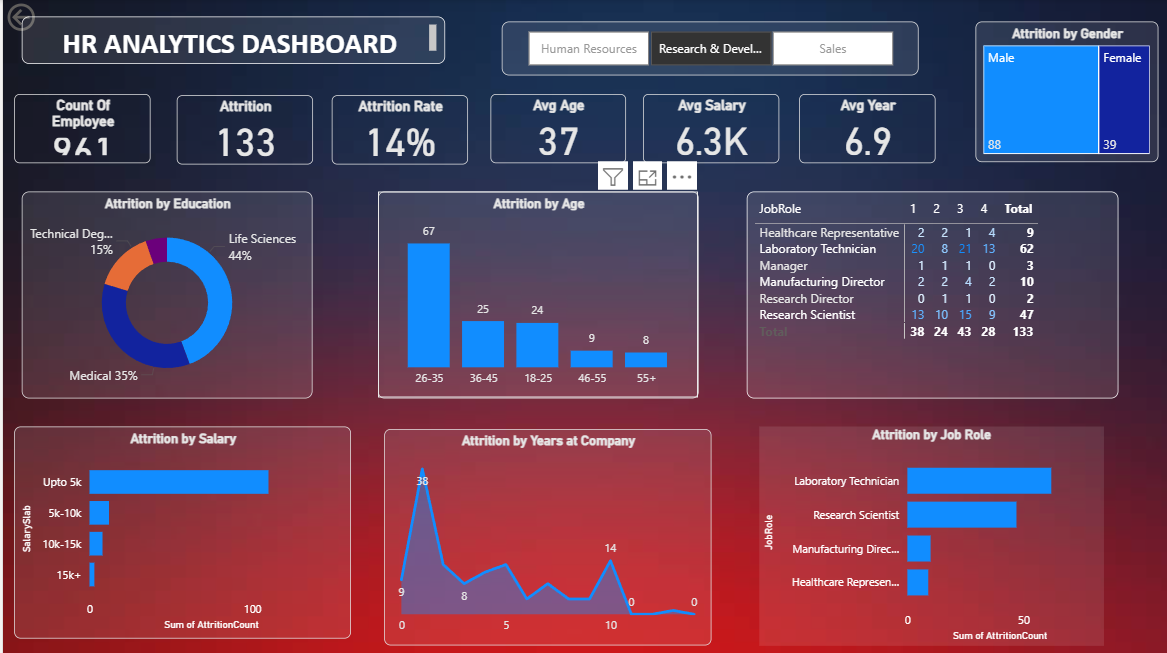

The dashboard page shown, as its layout file describes it:
{"tool":"powerbi","page":{"name":"Page 1","canvas":[1280,720],"ordinal":0},"visuals":[{"type":"card","title":"Count Of Employee","fields":{"Values":["CountNonNull(HR_Analytics.EmpID)"]},"box":[11.9,103.9,150,75.7],"z":0},{"type":"card","title":"Attrition","fields":{"Values":["Sum(HR_Analytics.AttritionCount)"]},"box":[190.1,105.4,150,75.7],"z":1000},{"type":"card","title":"Attrition Rate","fields":{"Values":["HR_Analytics.AttritionRate"]},"box":[360.8,105.4,150,75.7],"z":2000},{"type":"card","title":"Avg Age","fields":{"Values":["Avg(HR_Analytics.Age)"]},"box":[534.6,103.9,148.5,75.7],"z":3000},{"type":"card","title":"Avg Salary","fields":{"Values":["Avg(HR_Analytics.MonthlyIncome)"]},"box":[702.4,103.9,150,75.7],"z":4000},{"type":"card","title":"Avg Year","fields":{"Values":["Avg(HR_Analytics.YearsAtCompany)"]},"box":[874.6,103.9,150,75.7],"z":5000},{"type":"actionButton","box":[0,0,100,40],"z":6000},{"type":"donutChart","title":"Attrition by Education","fields":{"Category":["HR_Analytics.EducationField"],"Y":["Sum(HR_Analytics.AttritionCount)"]},"box":[20.8,210.9,319.3,227.2],"z":7000},{"type":"columnChart","title":"Attrition by Age","fields":{"Category":["HR_Analytics.AgeGroup"],"Y":["Sum(HR_Analytics.AttritionCount)"]},"box":[411.3,210.9,351.9,227.2],"z":8000},{"type":"pivotTable","fields":{"Rows":["HR_Analytics.JobRole"],"Columns":["HR_Analytics.JobSatisfaction"],"Values":["Sum(HR_Analytics.AttritionCount)"]},"box":[816.7,210.9,408.4,227.2],"z":9000},{"type":"barChart","title":"Attrition by Salary","fields":{"Category":["HR_Analytics.SalarySlab"],"Y":["Sum(HR_Analytics.AttritionCount)"]},"box":[11.9,469.2,369.7,233.1],"z":10000},{"type":"barChart","title":"Attrition by Job Role","fields":{"Y":["Sum(HR_Analytics.AttritionCount)"],"Category":["HR_Analytics.JobRole"]},"box":[830.1,469.2,378.7,240.6],"z":11000},{"type":"areaChart","title":"Attrition by Years at Company","fields":{"Category":["HR_Analytics.YearsAtCompany"],"Y":["Sum(HR_Analytics.AttritionCount)"]},"box":[418.7,472.2,359.4,237.6],"z":12000},{"type":"treemap","title":"Attrition by Gender","fields":{"Group":["HR_Analytics.Gender"],"Values":["Sum(HR_Analytics.AttritionCount)"]},"box":[1067.7,25.2,200.5,154.4],"z":12001},{"type":"slicer","fields":{"Values":["HR_Analytics.Department"]},"box":[547.9,25.2,457.4,59.4],"z":12002},{"type":"textbox","box":[20.8,19.3,464.8,52],"z":12003}]}

Visuals, with their boxes in screenshot pixels (x1, y1, x2, y2), scaled from the page's 1280x720 canvas onto the 1167x653 screenshot:
"Count Of Employee" card: bbox=(11, 94, 148, 163)
"Attrition" card: bbox=(173, 96, 310, 164)
"Attrition Rate" card: bbox=(329, 96, 466, 164)
"Avg Age" card: bbox=(487, 94, 623, 163)
"Avg Salary" card: bbox=(640, 94, 777, 163)
"Avg Year" card: bbox=(797, 94, 934, 163)
actionButton: bbox=(0, 0, 91, 36)
"Attrition by Education" donutChart: bbox=(19, 191, 310, 397)
"Attrition by Age" columnChart: bbox=(375, 191, 696, 397)
pivotTable - HR_Analytics.JobRole x HR_Analytics.JobSatisfaction: bbox=(745, 191, 1117, 397)
"Attrition by Salary" barChart: bbox=(11, 426, 348, 637)
"Attrition by Job Role" barChart: bbox=(757, 426, 1102, 644)
"Attrition by Years at Company" areaChart: bbox=(382, 428, 709, 644)
"Attrition by Gender" treemap: bbox=(973, 23, 1156, 163)
slicer - HR_Analytics.Department: bbox=(500, 23, 917, 77)
textbox: bbox=(19, 18, 443, 65)
